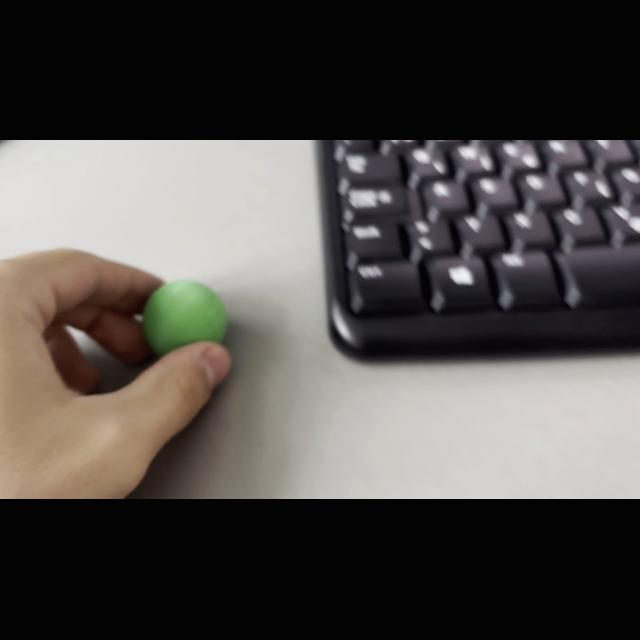objects: (136, 274, 237, 354)
